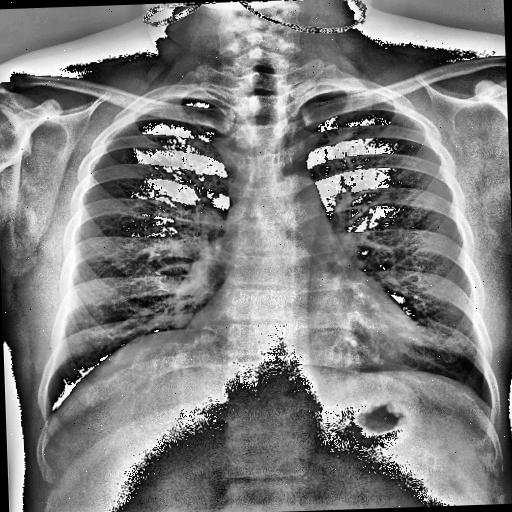3- Cardiomegaly: (178, 284, 421, 371), (182, 296, 420, 384)
9- Other lesion: (180, 290, 234, 344)
